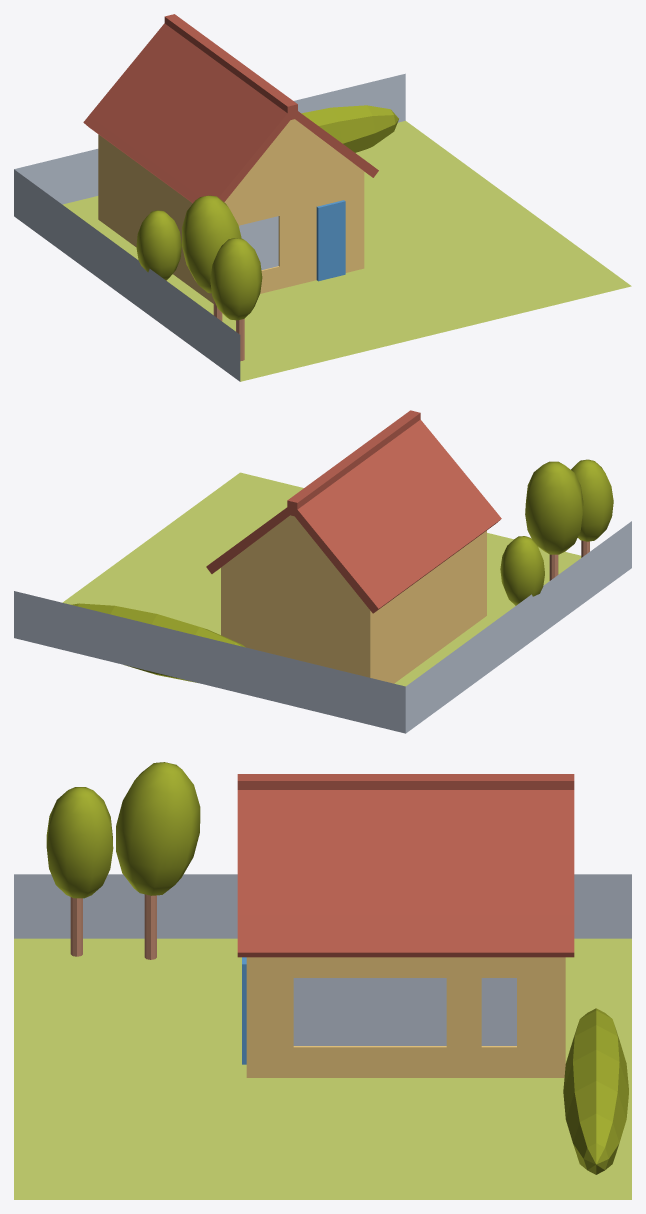
Rendered from SM_Environment.fbx.
3 views of the same model, one above another, from view 1: azimuth 30°, elevation 25°; view 2: azimuth 150°, elevation 25°; view 3: azimuth 270°, elevation 25° (orthographic). The views are drawn at different scales.
Parts seen in each view (by area): view 1: SM_EnvironmentDetailed; view 2: SM_EnvironmentDetailed; view 3: SM_EnvironmentDetailed.
Boxes of the visible parts, box(x1,y1,x2,y2) form: SM_EnvironmentDetailed: box(14, 14, 631, 381); SM_EnvironmentDetailed: box(14, 410, 631, 733); SM_EnvironmentDetailed: box(14, 762, 631, 1199).
Size of the model in its own units: 6.07 by 2.91 by 6.
